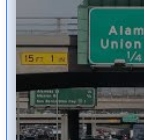1: (21, 53, 29, 64), (49, 53, 55, 64)
5: (27, 52, 34, 64)
overheadsign: (19, 50, 68, 67)
